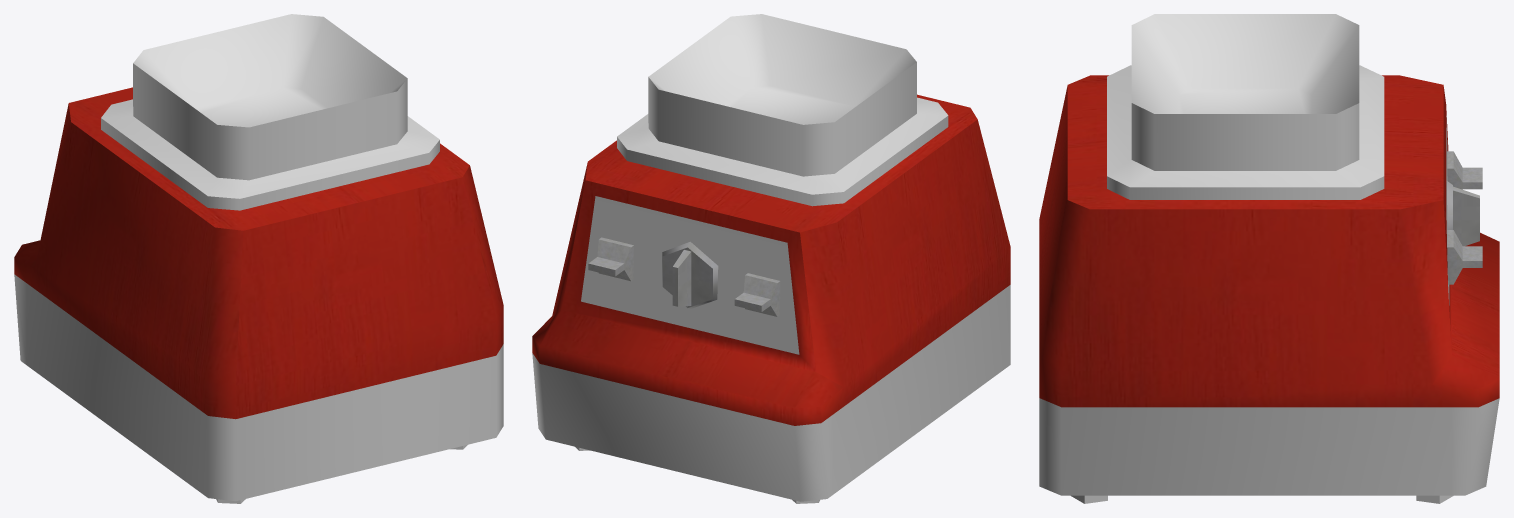
Rendered from Blender_02.glb.
The picture shows the model from 3 angles, left to right: view 1: azimuth 30°, elevation 25°; view 2: azimuth 150°, elevation 25°; view 3: azimuth 270°, elevation 25°; orthographic projection. The views are drawn at different scales.
Visible parts, largest first — view 1: Blender_02; view 2: Blender_02; view 3: Blender_02.
Boxes of the visible parts, box(x1,y1,x2,y2) form: Blender_02: box(14, 14, 503, 503); Blender_02: box(532, 14, 1010, 503); Blender_02: box(1039, 14, 1499, 503).
Bounding box in the file's own units: 0.2779 × 0.3086 × 0.3451.
Materials: 3 (2 with a texture image).
